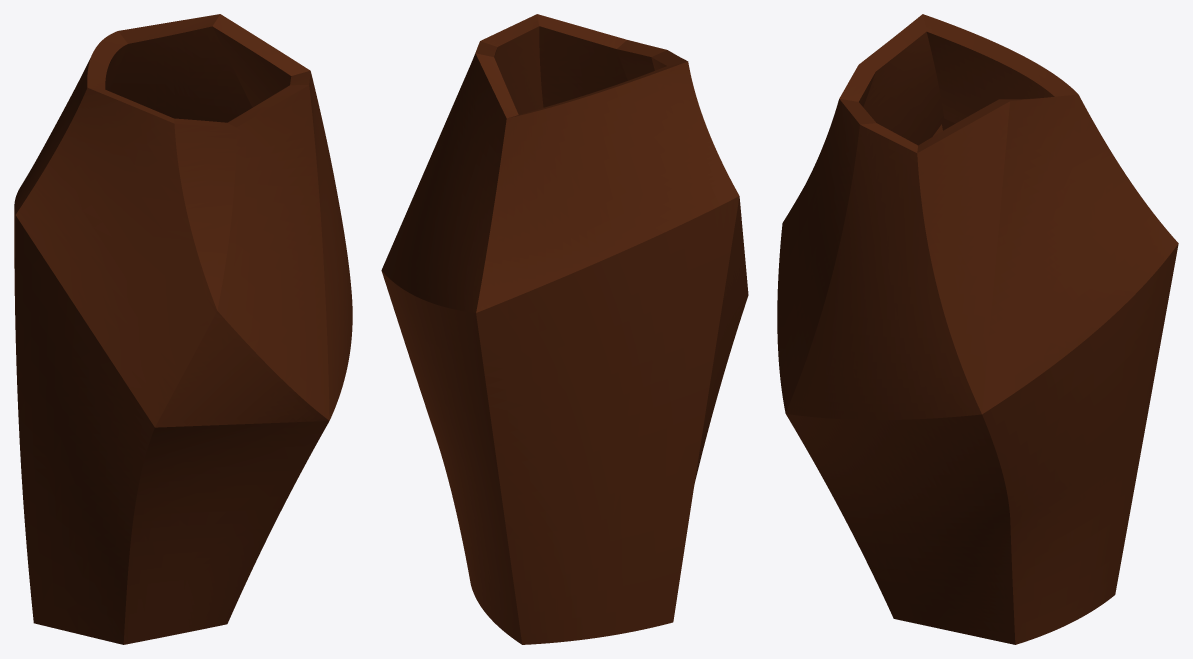
3 views of the same model, side by side, from view 1: azimuth 30°, elevation 25°; view 2: azimuth 150°, elevation 25°; view 3: azimuth 270°, elevation 25° (orthographic). The views are drawn at different scales.
Visible parts, largest first — view 1: Без названия3; view 2: Без названия3; view 3: Без названия3.
Boxes of the visible parts, bbox=[...] form: Без названия3: bbox=[14, 14, 352, 644]; Без названия3: bbox=[381, 14, 748, 644]; Без названия3: bbox=[777, 14, 1178, 644].
Size of the model in its own units: 0.167 by 0.2514 by 0.1678.
